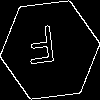F: (25, 25, 58, 74)
